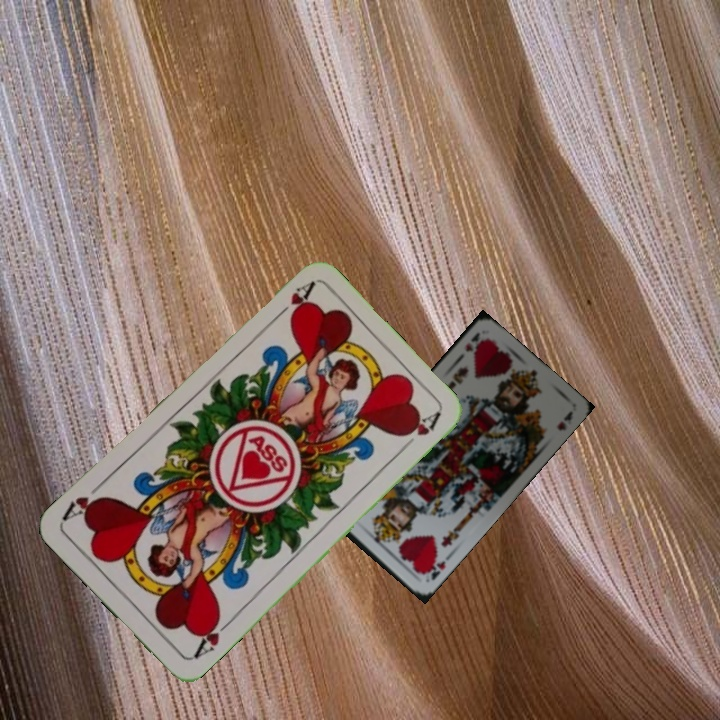HA: (189, 611, 235, 662), (269, 278, 317, 324)
HK: (453, 328, 486, 361), (419, 551, 452, 583)
